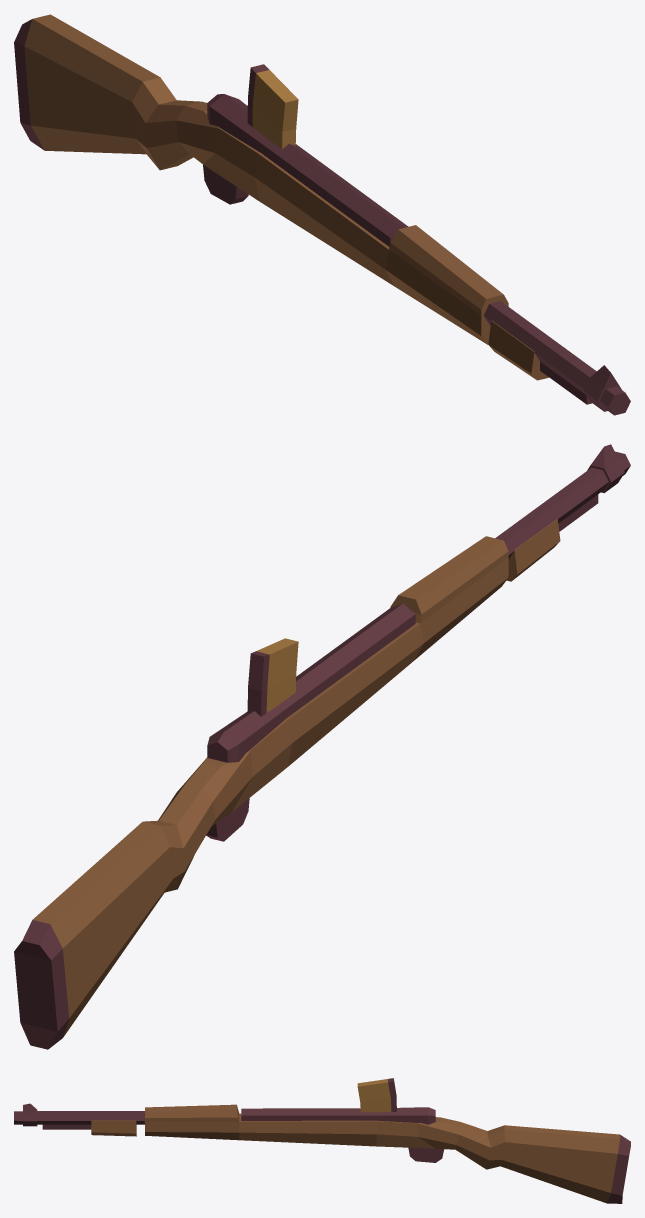
File: weapons-rifle-old.glb
3 renders of one model, top to bottom at view 1: azimuth 30°, elevation 25°; view 2: azimuth 150°, elevation 25°; view 3: azimuth 270°, elevation 25°, orthographic. The views are drawn at different scales.
Visible parts, largest first — view 1: SM_Rifle_Old; view 2: SM_Rifle_Old; view 3: SM_Rifle_Old.
Boxes of the visible parts, <box> form: SM_Rifle_Old: <box>14,14,630,415</box>; SM_Rifle_Old: <box>14,444,630,1049</box>; SM_Rifle_Old: <box>14,1078,630,1203</box>.
Size of the model in its own units: 0.0425 by 0.2461 by 1.13.
